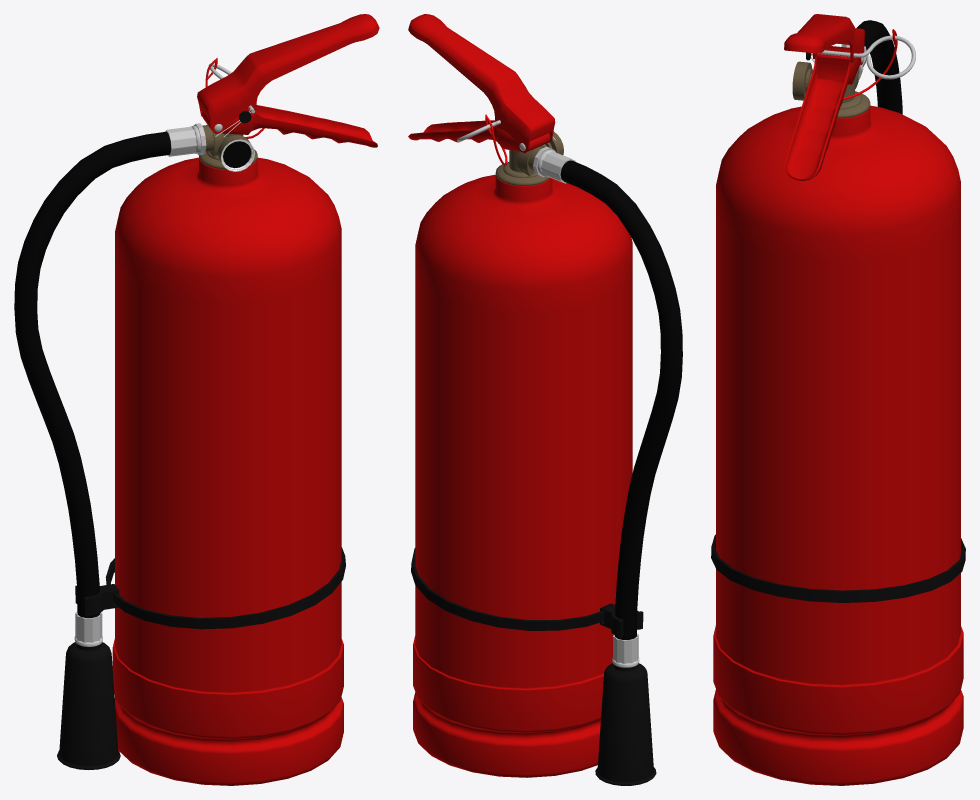
Rendered from extintor.FBX.
3 renders of one model, left to right at view 1: azimuth 30°, elevation 25°; view 2: azimuth 150°, elevation 25°; view 3: azimuth 270°, elevation 25°, orthographic. The views are drawn at different scales.
Visible parts, largest first — view 1: Fire extinguisher; view 2: Fire extinguisher; view 3: Fire extinguisher.
Part boxes in pixels (x1,y1,x2,y2): Fire extinguisher: (14,14,379,785); Fire extinguisher: (408,14,682,785); Fire extinguisher: (711,14,965,785).
Size of the model in its own units: 231 by 485 by 147.
